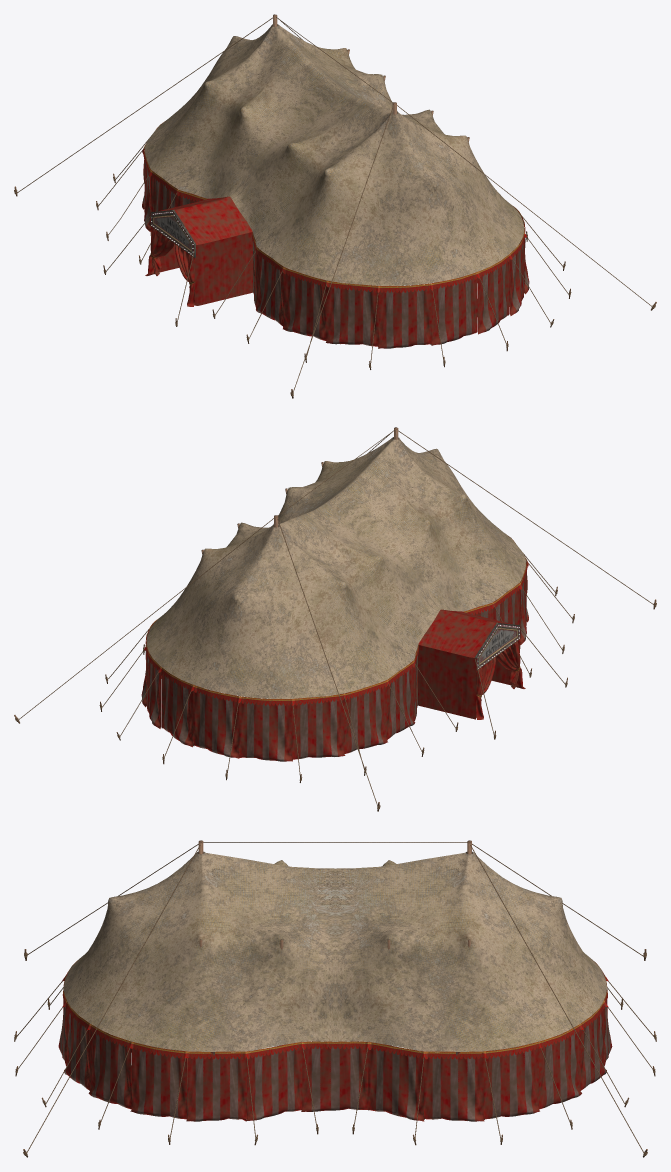
Rendered from SM_LargeTent.fbx.
The picture shows the model from 3 angles, top to bottom: view 1: azimuth 30°, elevation 25°; view 2: azimuth 150°, elevation 25°; view 3: azimuth 270°, elevation 25°; orthographic projection. The views are drawn at different scales.
Visible parts, largest first — view 1: SM_LargeTent_LOD0; view 2: SM_LargeTent_LOD0; view 3: SM_LargeTent_LOD0.
Part boxes in pixels (x1,y1,x2,y2): SM_LargeTent_LOD0: [14, 14, 656, 398]; SM_LargeTent_LOD0: [14, 427, 656, 811]; SM_LargeTent_LOD0: [14, 840, 656, 1157].
Bounding box in the file's own units: 3651 × 4788 × 1798.
Materials: 4 (4 with a texture image).
